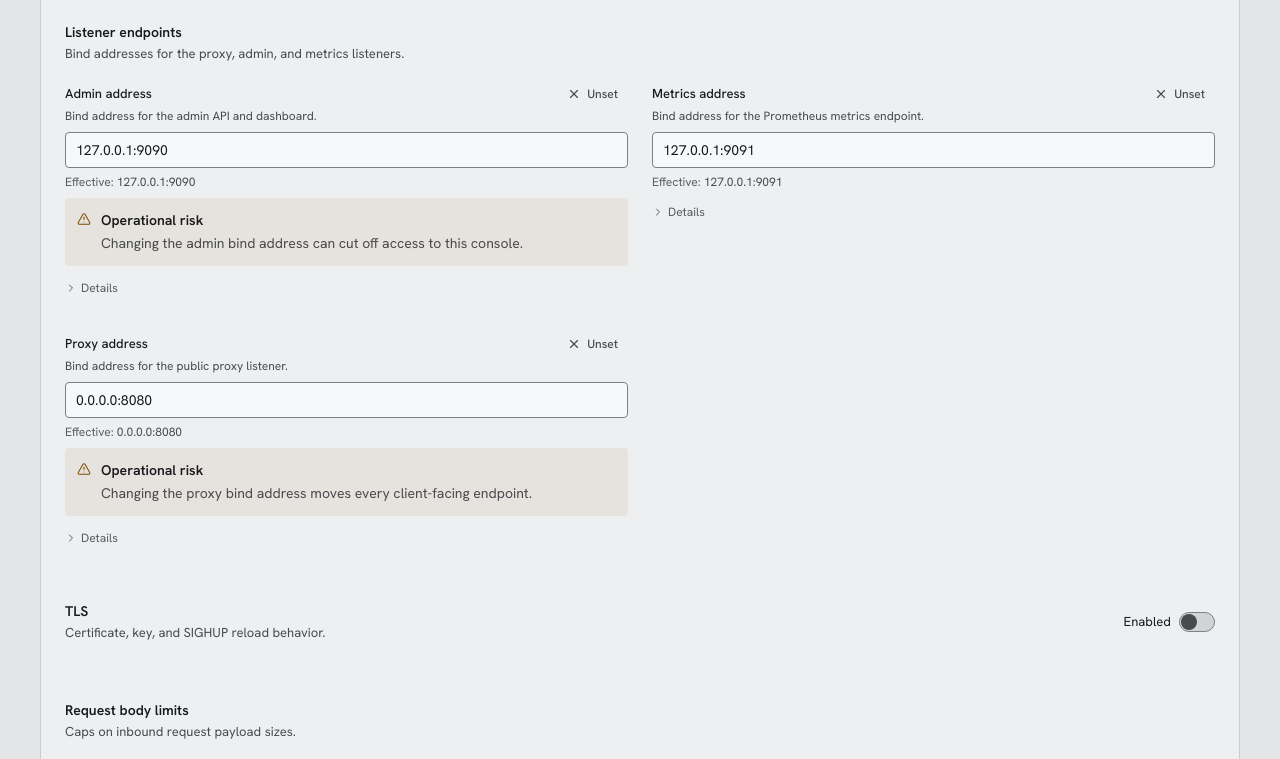
dirty edits require save draft and validation before file save or download
This screenshot has width=1280, height=759.
(page scrolled)
Replace the text in the field labelled "Proxy address" with "0.0.0.0:8181" at (346, 400), box x1=65 y1=382 x2=628 y2=418
(page scrolled)
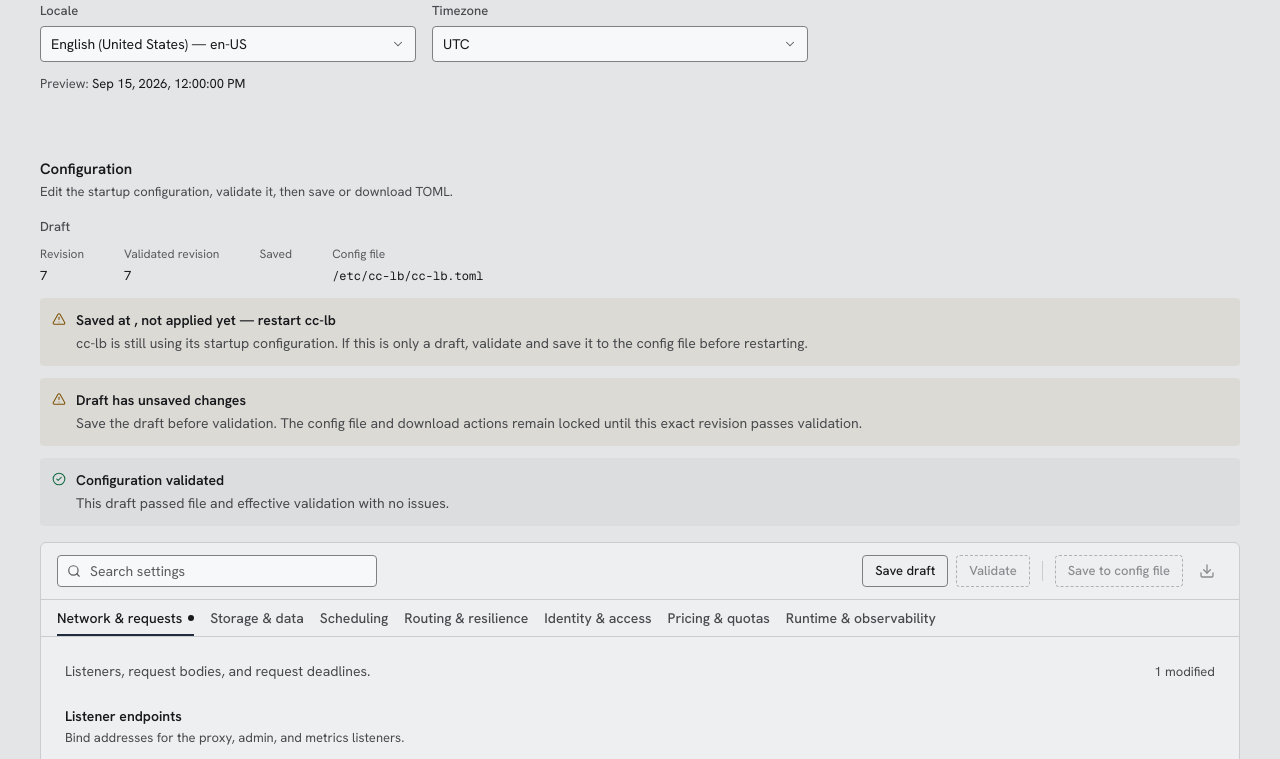
Result: the button "Save draft" is enabled at x1=862 y1=555 x2=948 y2=587
Result: the button "Validate" is disabled at x1=956 y1=555 x2=1030 y2=587
Result: the button "Save to config file" is disabled at x1=1055 y1=555 x2=1183 y2=587
